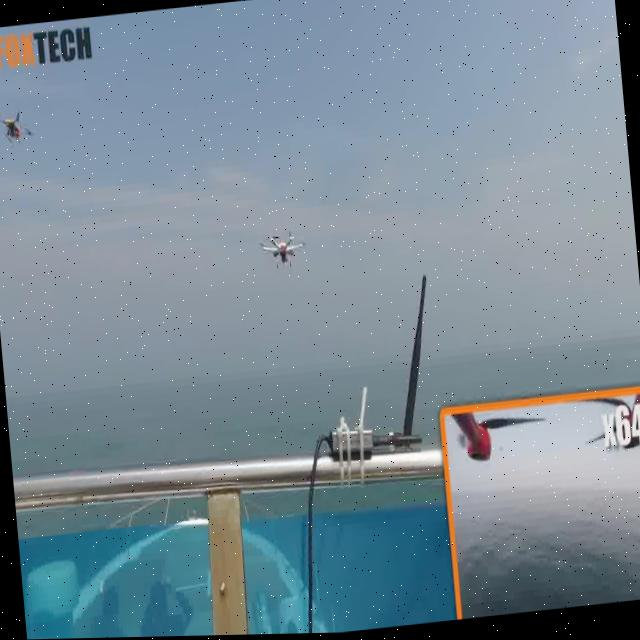drone: (0, 94, 51, 162)
